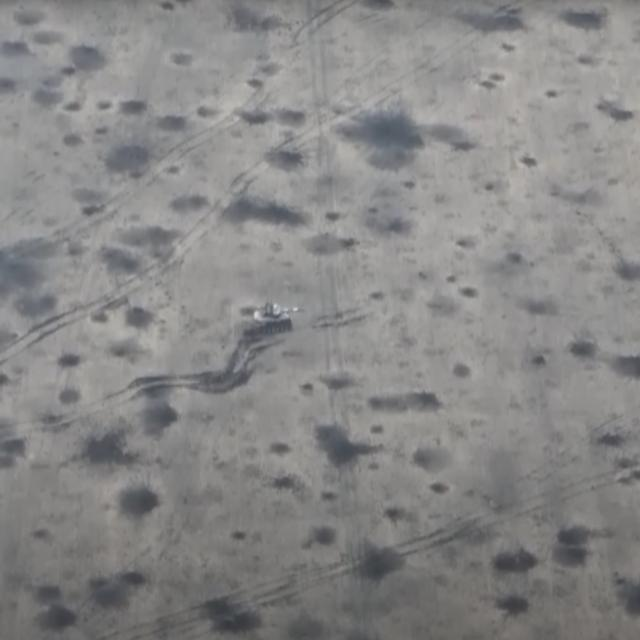MBT: (251, 300, 308, 338)
